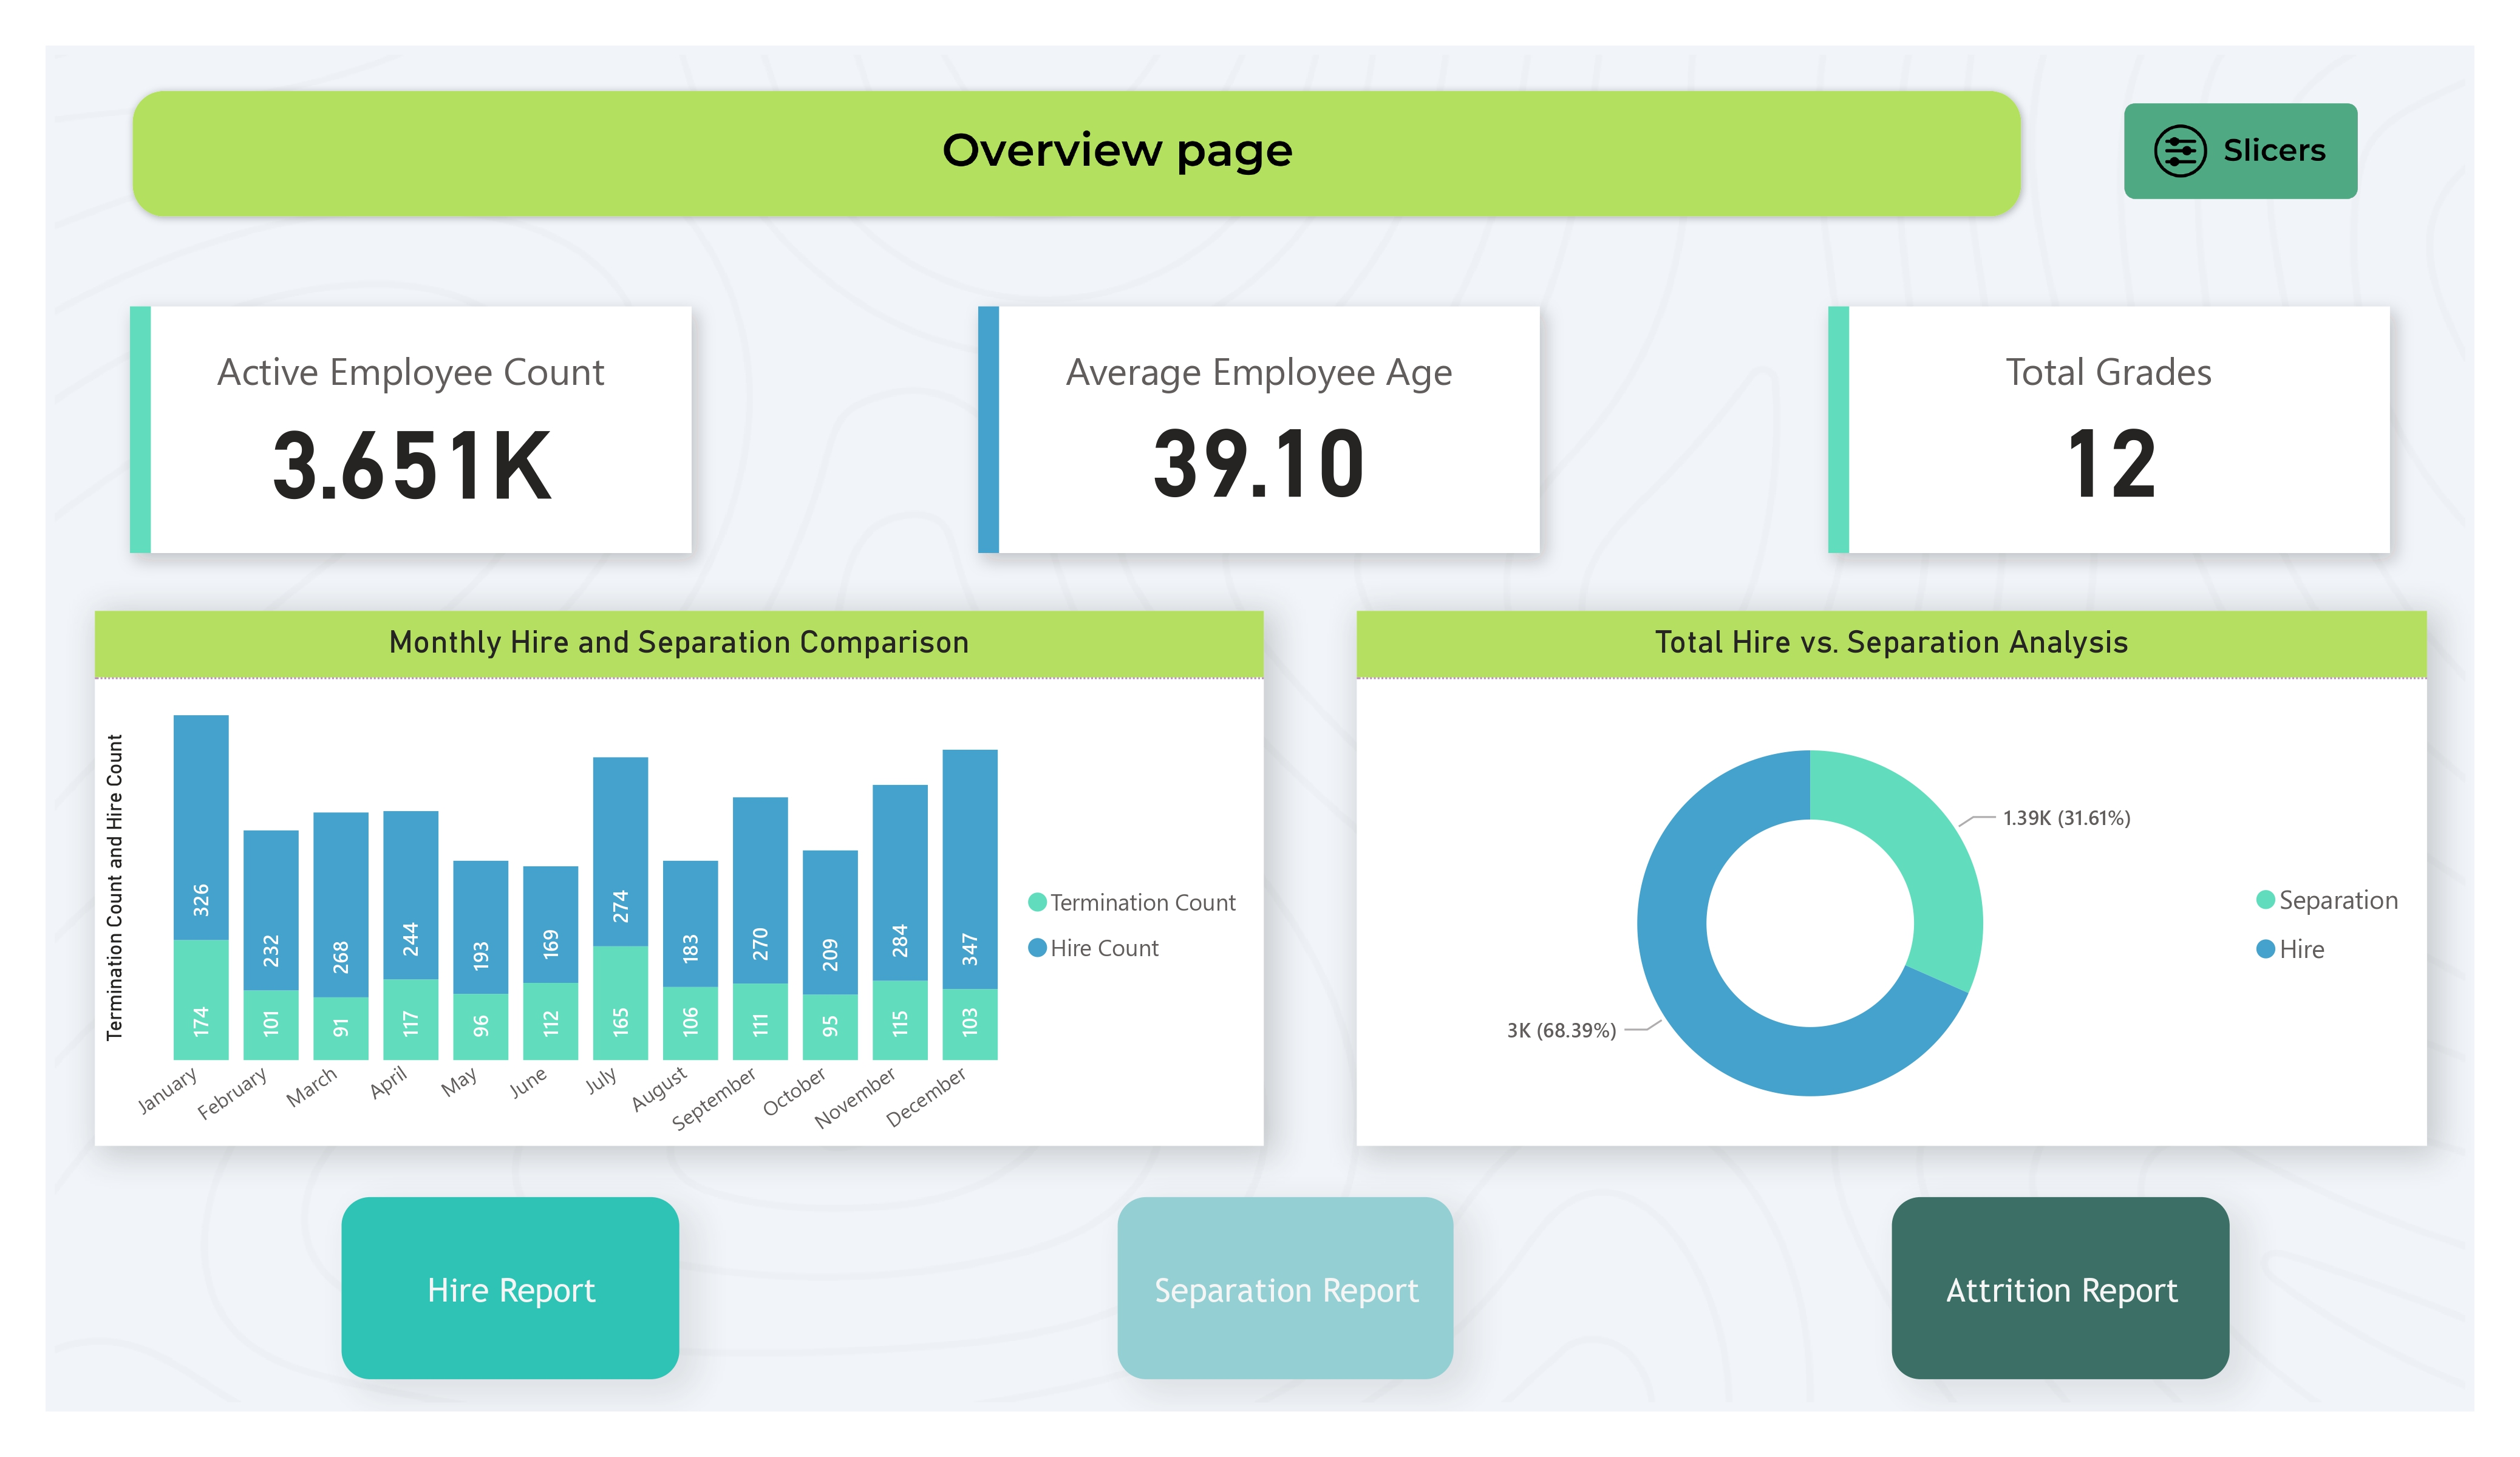

This screenshot's page, from the dashboard's own definition file:
{"tool":"powerbi","page":{"name":"Overview Page","canvas":[1280,720],"ordinal":0},"visuals":[{"type":"shape","box":[41.3,19,1005,75.9],"z":0,"group":"g1"},{"type":"image","box":[0,0,1280,720],"z":500},{"type":"image","box":[372.9,39.1,384.1,35.7],"z":1000,"group":"g1"},{"type":"cardVisual","fields":{"Data":["Count(Active 2024.Group Person ID)"]},"box":[25.6,118.6,333.7,167.4],"z":1000},{"type":"cardVisual","fields":{"Data":["Avg(Active 2024.Age)"]},"box":[473.3,118.6,333.7,167.4],"z":2000},{"type":"columnChart","title":"Monthly Hire and Separation Comparison","fields":{"Y":["Sum(Hiretermination.TerminationCount)","Sum(Hiretermination.HireCount)"],"Category":["Hiretermination.Hire Date.Variation.Date Hierarchy.Month"]},"box":[25.6,297.7,616.3,282.6],"z":3000},{"type":"donutChart","title":"Total Hire vs. Separation Analysis","fields":{"Y":["Sum(Hiretermination.TerminationCount)","Sum(Hiretermination.HireCount)"]},"box":[690.7,297.7,564,282.6],"z":4000},{"type":"actionButton","box":[156.3,607.4,177.5,96],"z":5000},{"type":"actionButton","box":[564.5,607,177.9,96.5],"z":6000},{"type":"actionButton","box":[972.6,607.4,178.7,96],"z":7000},{"type":"cardVisual","fields":{"Data":["Count(Active 2024.Grade)"]},"box":[920.9,118.6,333.7,167.4],"z":8000},{"type":"group","id":"g1","title":"Group 1","box":[41.3,19,1005,75.9],"z":9000},{"type":"image","box":[1087.2,17.4,139.5,76.7],"z":15000}]}

Visuals, with their boxes in screenshot pixels (x1, y1, x2, y2):
shape: {"left": 124, "top": 81, "right": 2031, "bottom": 226}
image: {"left": 46, "top": 46, "right": 2474, "bottom": 1411}
image: {"left": 753, "top": 120, "right": 1482, "bottom": 188}
cardVisual - Count(Active 2024.Group Person ID): {"left": 94, "top": 271, "right": 727, "bottom": 588}
cardVisual - Avg(Active 2024.Age): {"left": 944, "top": 271, "right": 1577, "bottom": 588}
"Monthly Hire and Separation Comparison" columnChart: {"left": 94, "top": 610, "right": 1264, "bottom": 1146}
"Total Hire vs. Separation Analysis" donutChart: {"left": 1356, "top": 610, "right": 2426, "bottom": 1146}
actionButton: {"left": 342, "top": 1198, "right": 679, "bottom": 1380}
actionButton: {"left": 1117, "top": 1197, "right": 1454, "bottom": 1380}
actionButton: {"left": 1891, "top": 1198, "right": 2230, "bottom": 1380}
cardVisual - Count(Active 2024.Grade): {"left": 1793, "top": 271, "right": 2426, "bottom": 588}
"Group 1" group: {"left": 124, "top": 81, "right": 2031, "bottom": 226}
image: {"left": 2108, "top": 78, "right": 2373, "bottom": 224}
